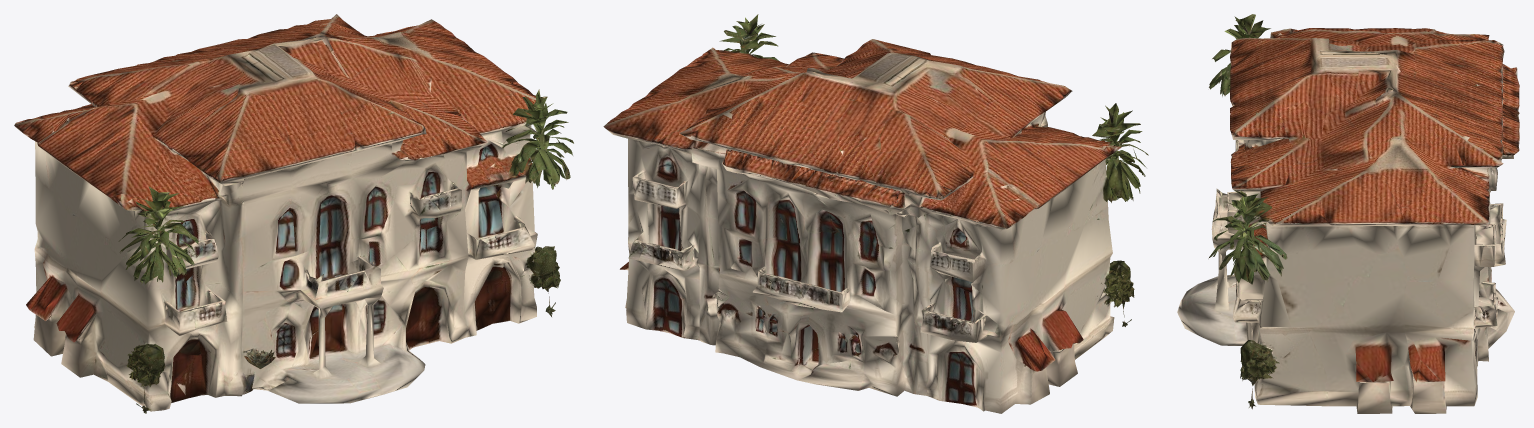
The model's file is bld_villa.glb.
3 renders of one model, left to right at view 1: azimuth 30°, elevation 25°; view 2: azimuth 150°, elevation 25°; view 3: azimuth 270°, elevation 25°, orthographic. The views are drawn at different scales.
Visible parts, largest first — view 1: bld_villa; view 2: bld_villa; view 3: bld_villa.
Boxes of the visible parts, box(x1,y1,x2,y2) form: bld_villa: box(14, 14, 573, 413); bld_villa: box(603, 14, 1148, 413); bld_villa: box(1177, 14, 1519, 413).
Size of the model in its own units: 1.89 by 1.11 by 1.36.
Materials: 1 (1 with a texture image).
